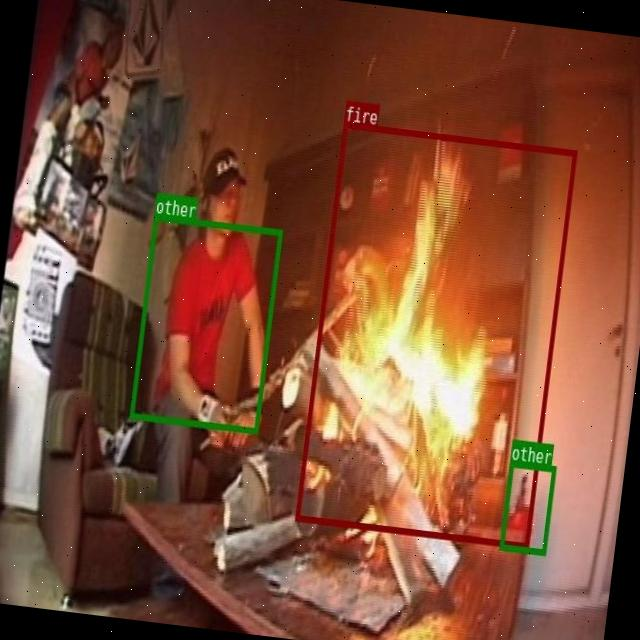fire: (294, 120, 576, 548)
